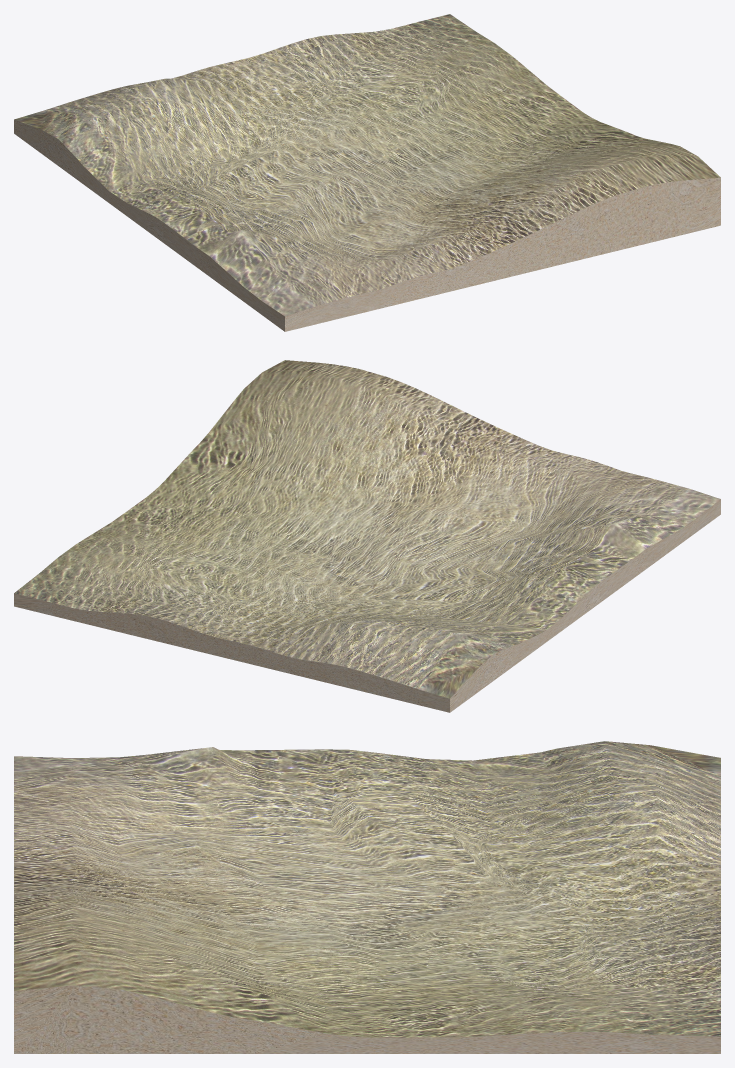
Rendered from Nen dat.fbx.
3 views of the same model, one above another, from view 1: azimuth 30°, elevation 25°; view 2: azimuth 150°, elevation 25°; view 3: azimuth 270°, elevation 25° (orthographic). The views are drawn at different scales.
Visible parts, largest first — view 1: polySurface65; view 2: polySurface65; view 3: polySurface65.
Part boxes in pixels (x1=…): polySurface65: x1=14, y1=14, x2=720, y2=331; polySurface65: x1=14, y1=360, x2=720, y2=712; polySurface65: x1=14, y1=741, x2=720, y2=1053.
Bounding box in the file's own units: 68.25 × 9.64 × 73.48.
